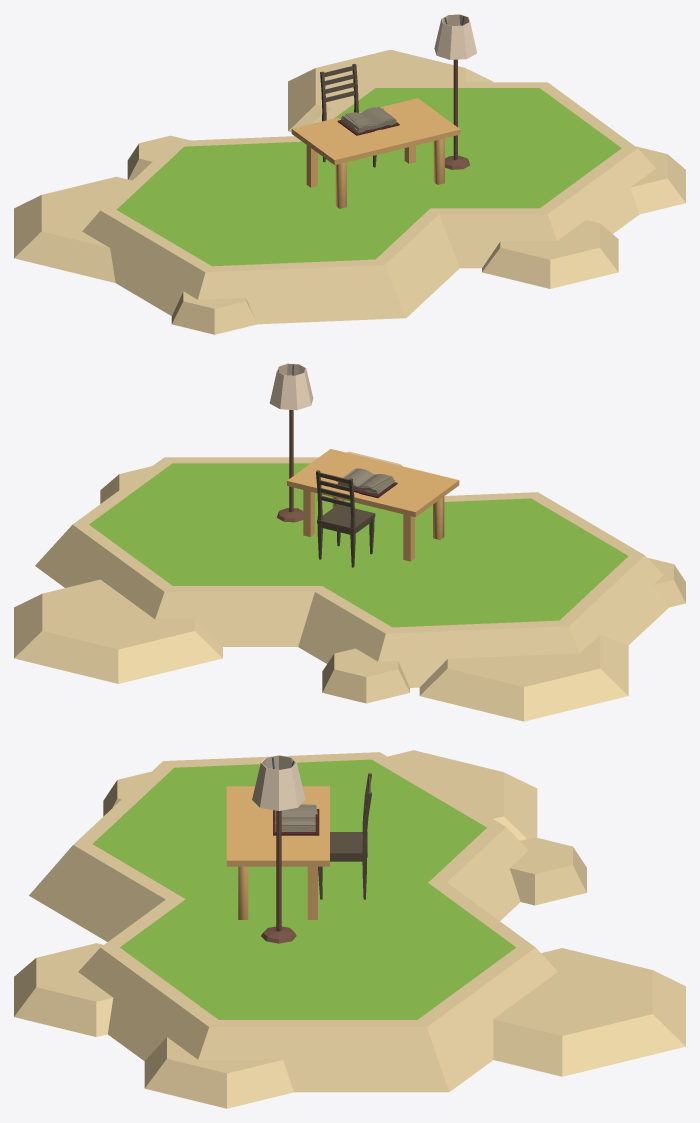
3 renders of one model, top to bottom at view 1: azimuth 30°, elevation 25°; view 2: azimuth 150°, elevation 25°; view 3: azimuth 270°, elevation 25°, orthographic. The views are drawn at different scales.
Visible parts, largest first — view 1: rockFlat, rockFlat.001, table, standing_lamp, chair, tableBook; view 2: rockFlat, rockFlat.001, table, chair, standing_lamp, tableBook; view 3: rockFlat, rockFlat.001, table, standing_lamp, chair, tableBook.
Boxes of the visible parts, x1,y1,x2,y2 form: rockFlat: (14, 49, 685, 334); rockFlat.001: (116, 88, 621, 266); table: (291, 98, 460, 208); standing_lamp: (434, 14, 476, 169); chair: (320, 63, 376, 167); tableBook: (337, 106, 399, 135); rockFlat: (14, 451, 685, 721); rockFlat.001: (89, 463, 628, 627); table: (287, 449, 459, 561); chair: (316, 470, 375, 567); standing_lamp: (269, 363, 313, 522); tableBook: (336, 468, 397, 498); rockFlat: (14, 750, 685, 1108); rockFlat.001: (93, 759, 515, 1019); table: (226, 786, 329, 919); standing_lamp: (252, 755, 305, 943); chair: (318, 773, 371, 899); tableBook: (273, 804, 319, 835).
Size of the model in its own units: 5.79 by 1.72 by 4.69.
